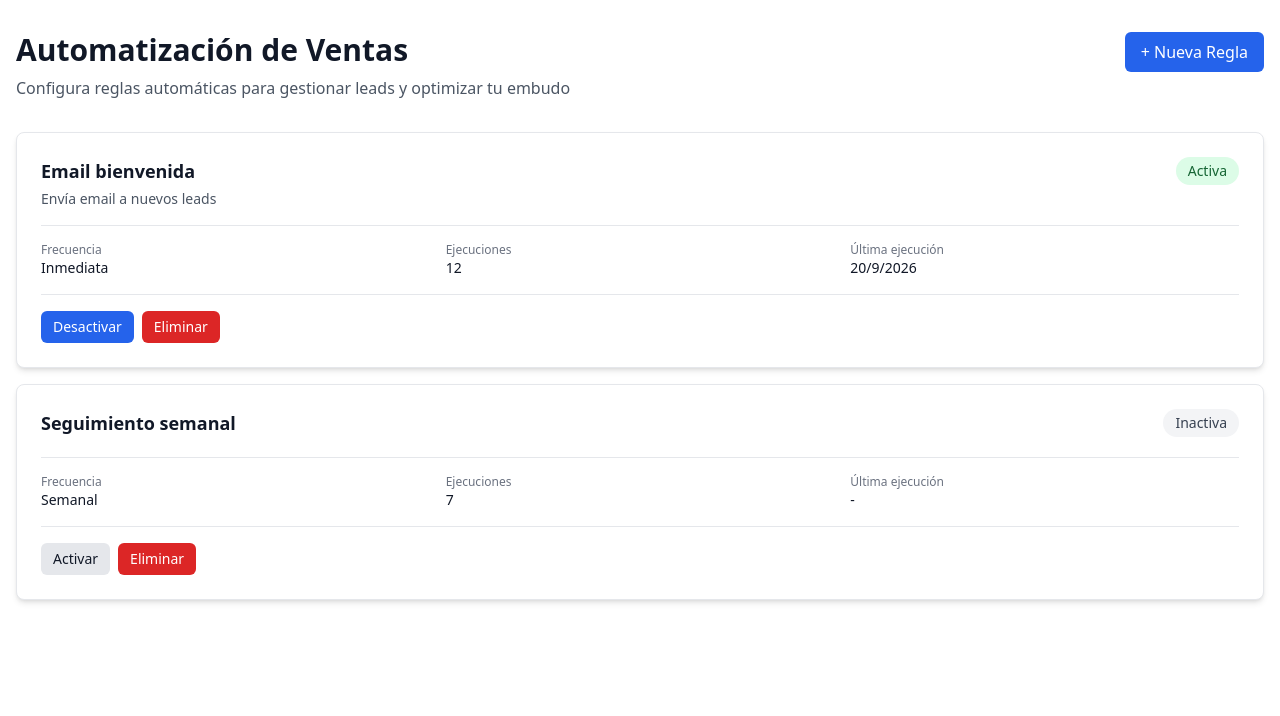
Test: AutomationPage › requires a rule name before creating
This screenshot has width=1280, height=716.
expect the heading "Email bienvenida" is shown: met, box [41,159,195,183]
Click the button "+ Nueva Regla" at [1194, 52], box [1125,32,1264,72]
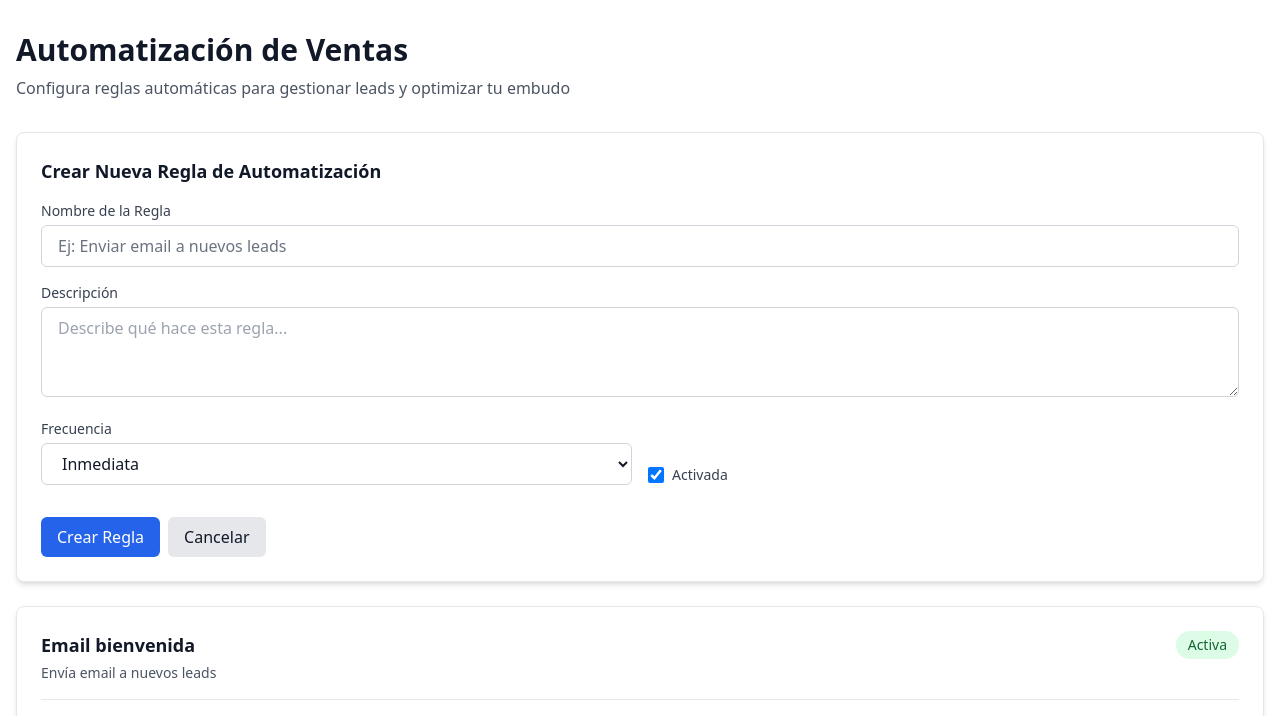
Click the button "Crear Regla" at [101, 537], box [41,517,160,557]
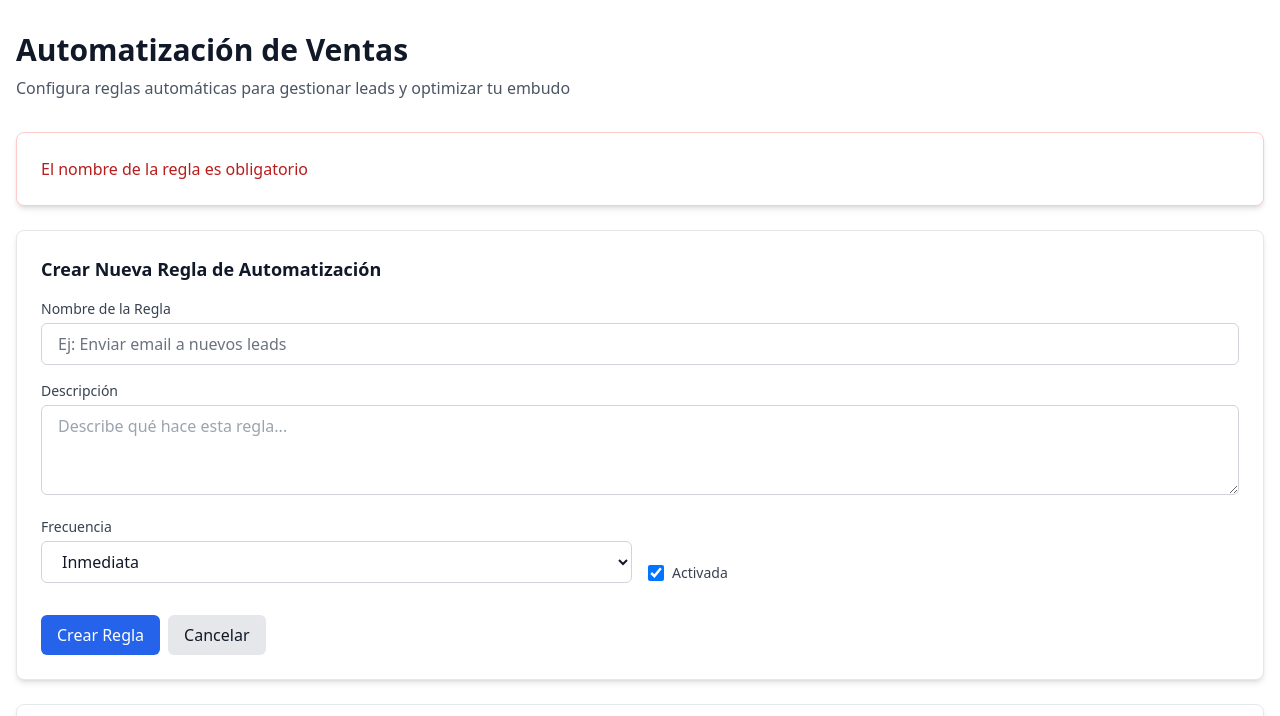
expect the text "El nombre de la regla es obligatorio" is shown: met, box [41,158,308,180]
